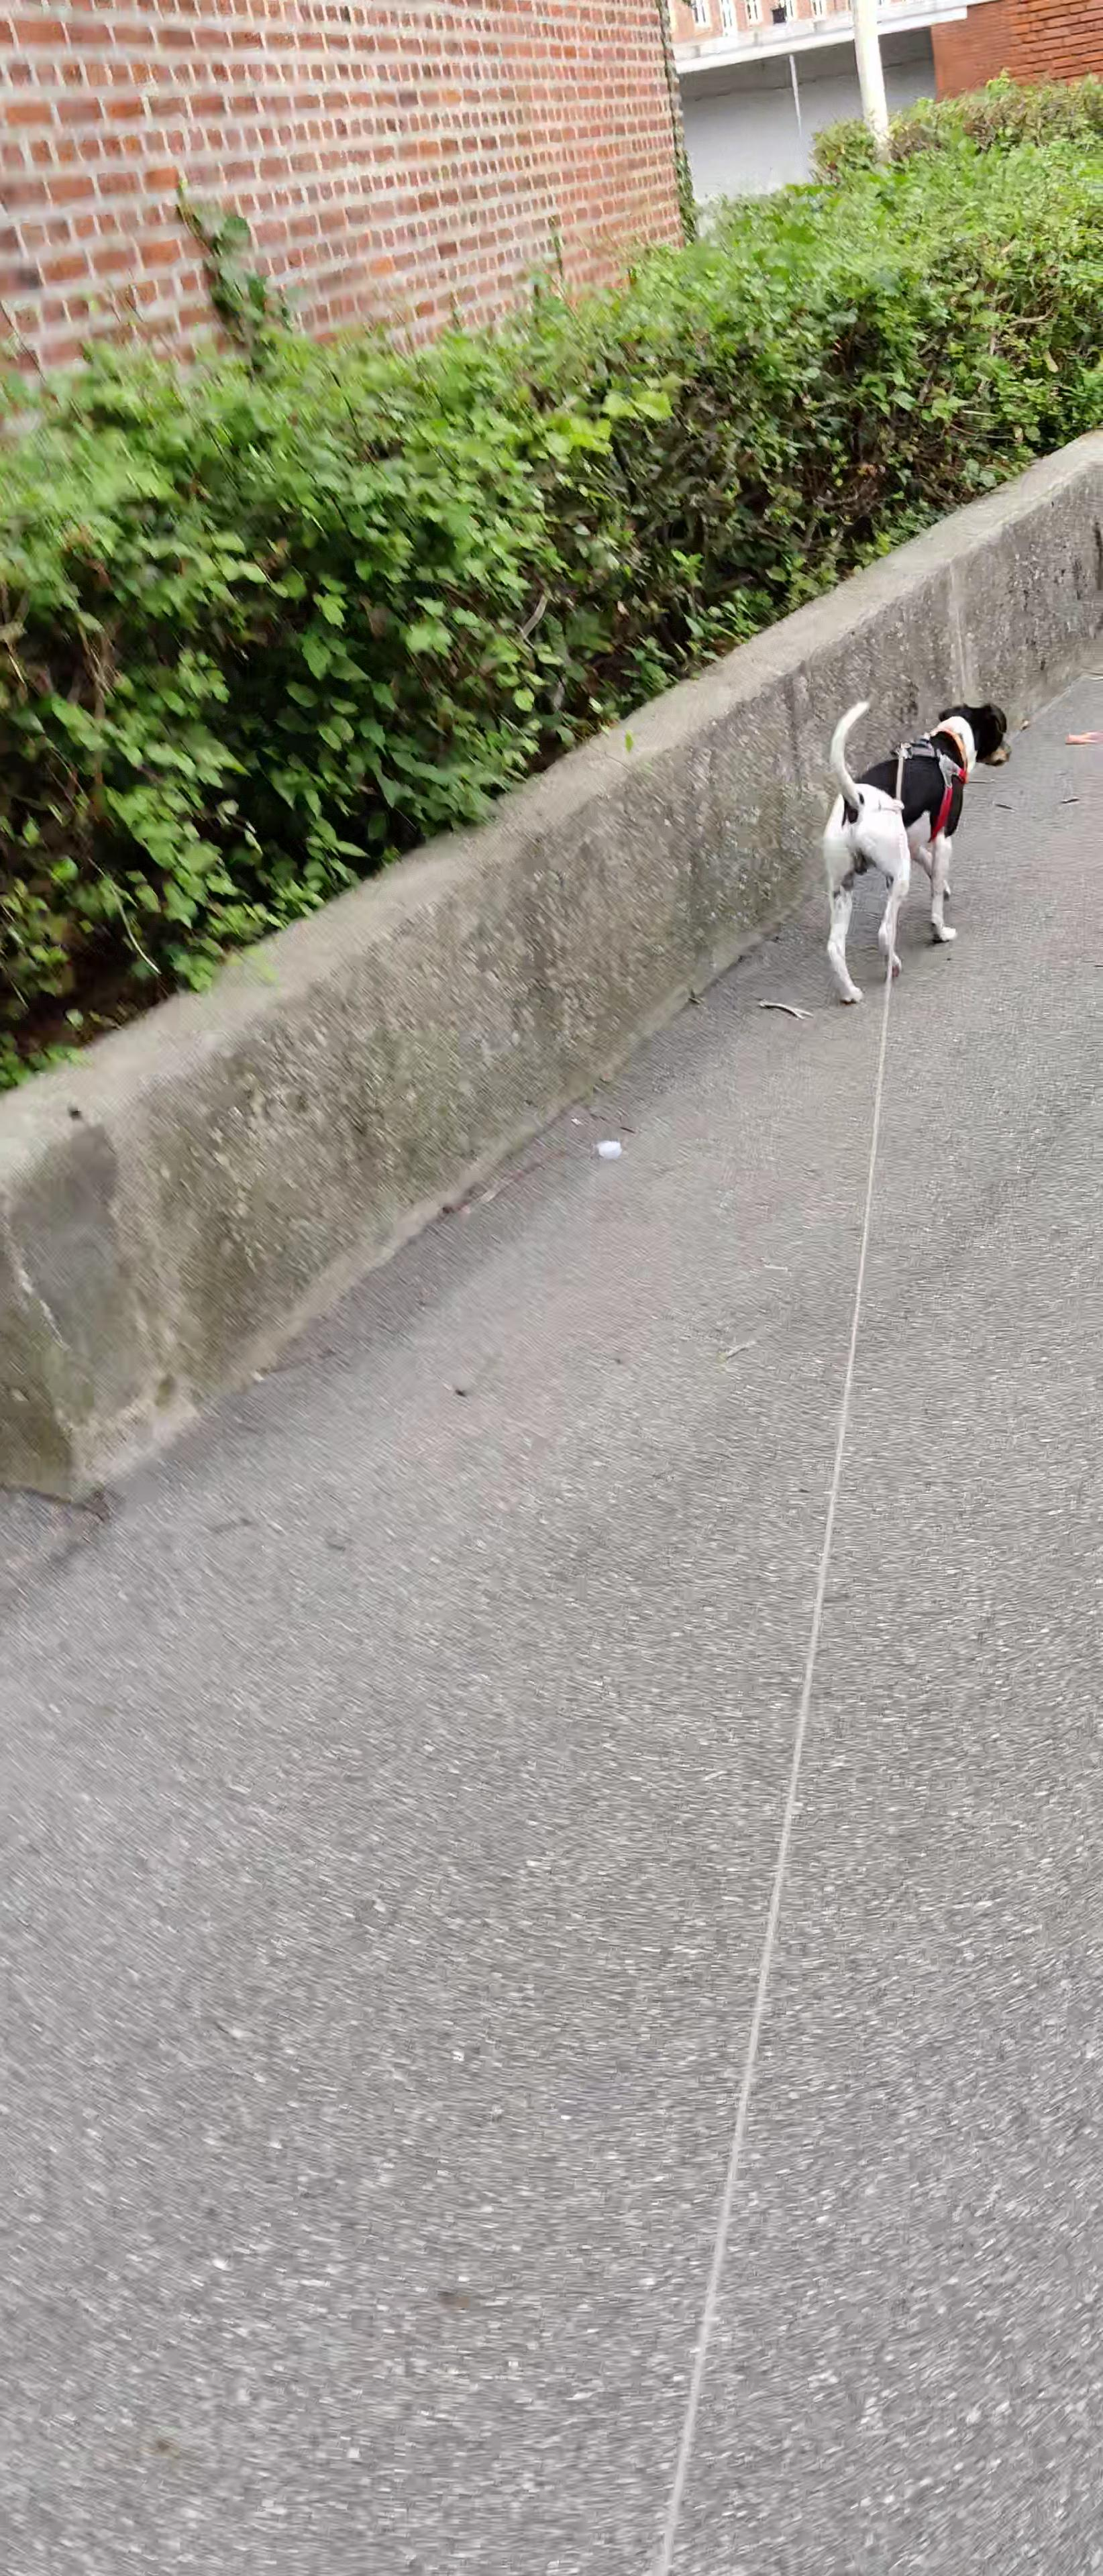Dog: (805, 685, 1024, 1014)
